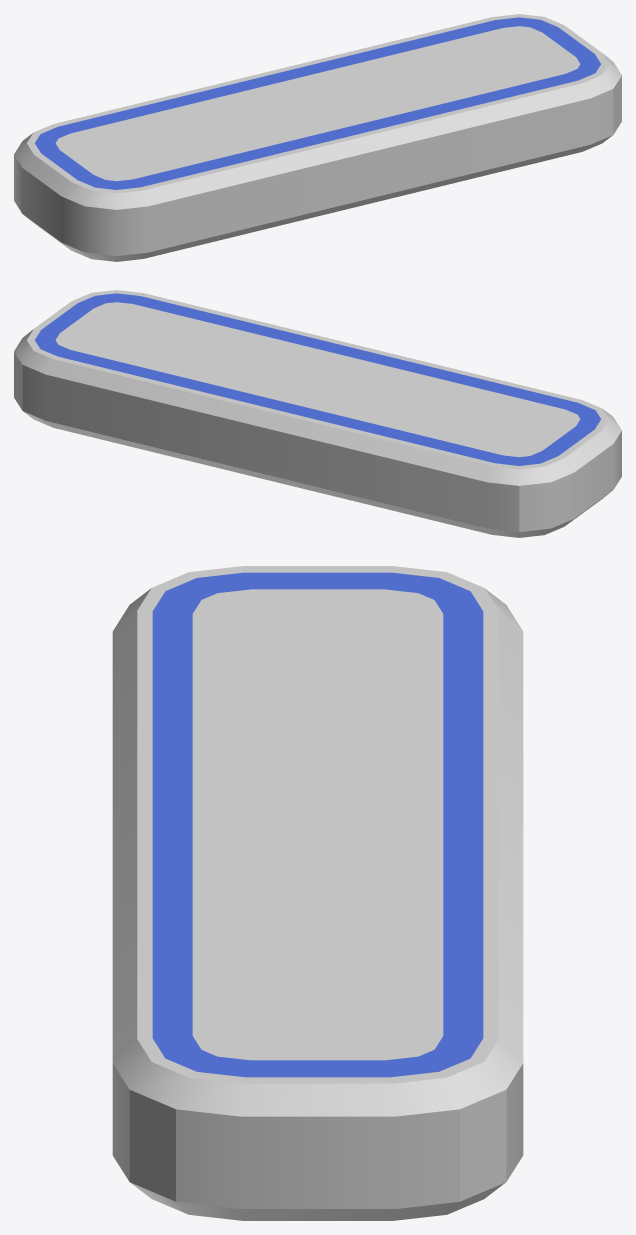
The model's file is Note.fbx.
3 views of the same model, one above another, from view 1: azimuth 30°, elevation 25°; view 2: azimuth 150°, elevation 25°; view 3: azimuth 270°, elevation 25° (orthographic). The views are drawn at different scales.
Parts seen in each view (by area): view 1: Note; view 2: Note; view 3: Note.
Part boxes in pixels (x1,y1,x2,y2): Note: [14, 14, 621, 261]; Note: [14, 290, 621, 537]; Note: [112, 566, 523, 1220].
Size of the model in its own units: 1.68 by 0.1995 by 0.5415.
